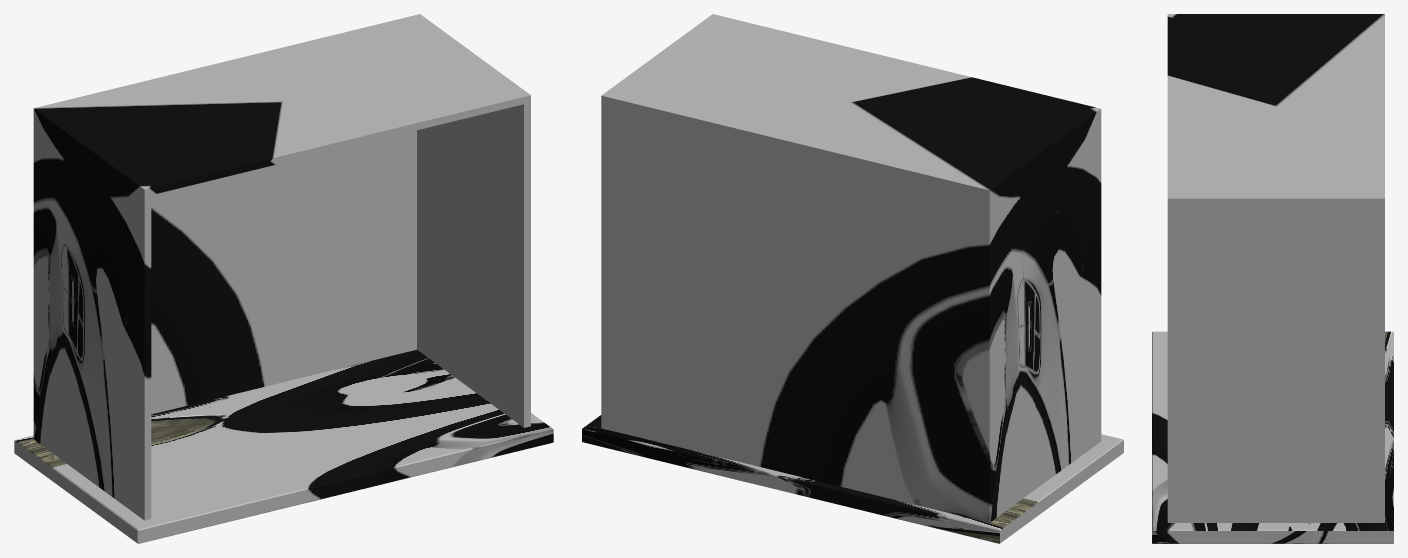
Rendered from Drawer_I.obj.
The picture shows the model from 3 angles, left to right: view 1: azimuth 30°, elevation 25°; view 2: azimuth 150°, elevation 25°; view 3: azimuth 270°, elevation 25°; orthographic projection. The views are drawn at different scales.
Size of the model in its own units: 0.762 by 0.605 by 0.3919.
